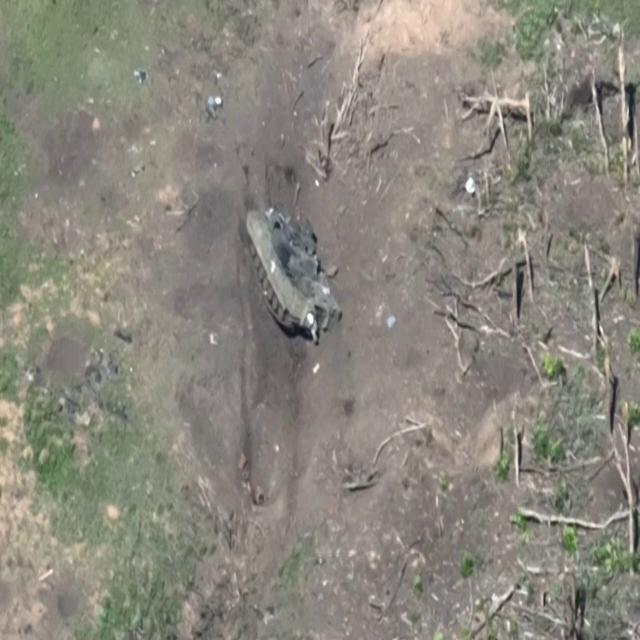MBT: (245, 203, 343, 341)
